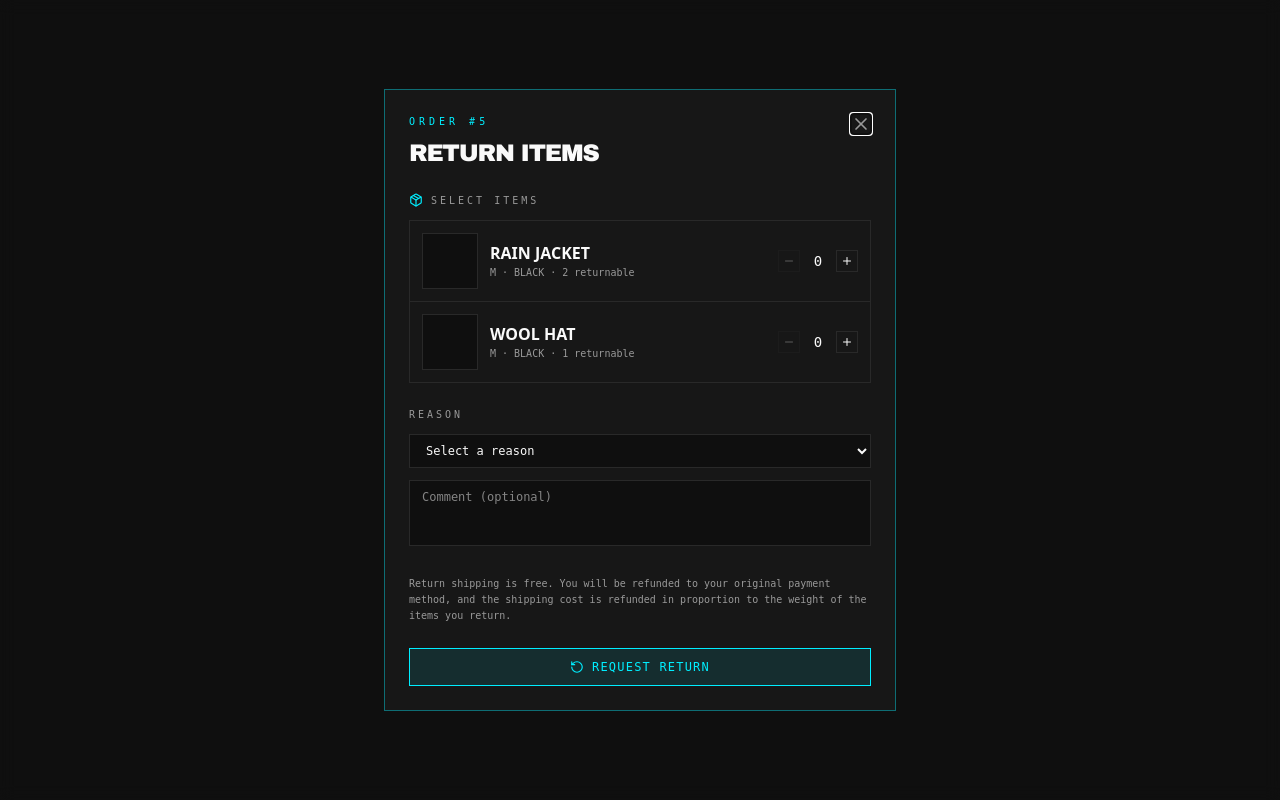
Scenario: ReturnDialog › asks for at least one item and a reason, and sends nothing
Click the button "Request return".
click(640, 667)  # box [409, 648, 871, 686]
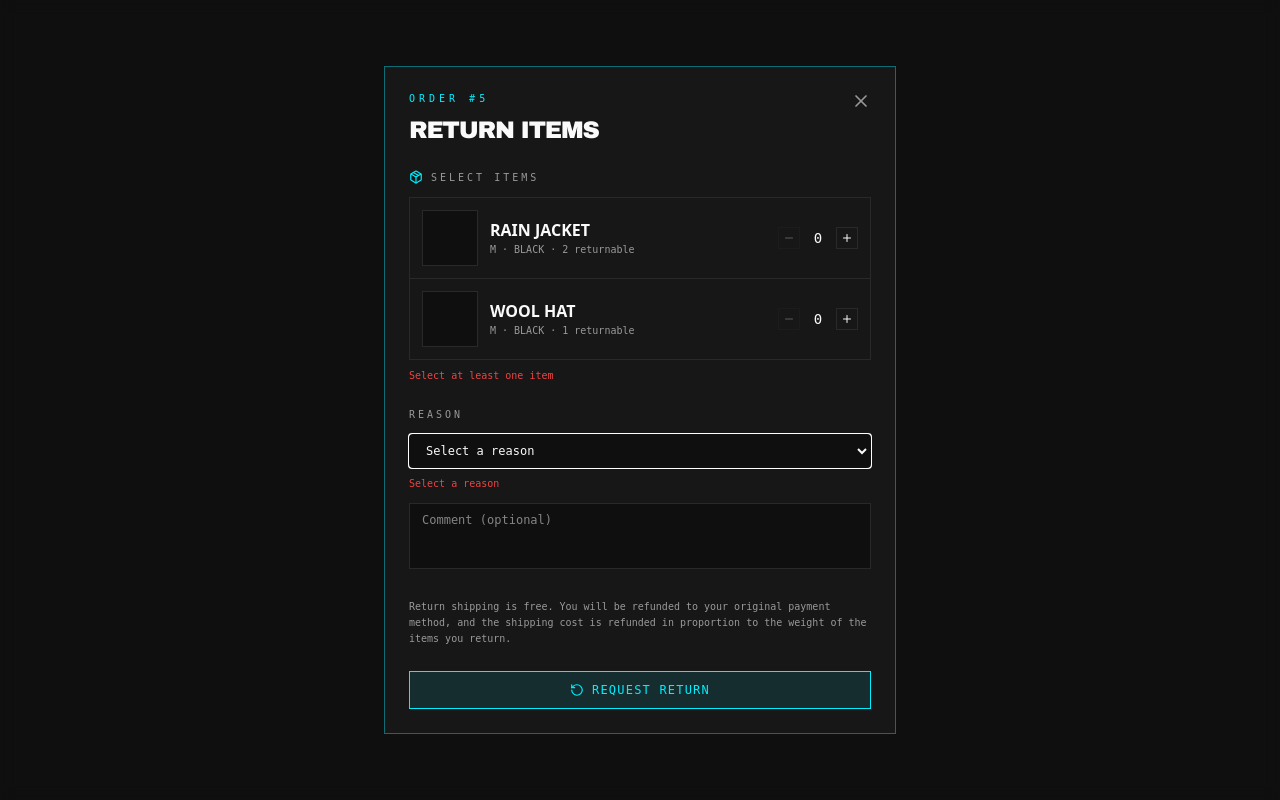
Result: the text "Select at least one item" is shown at [409, 370, 554, 381]
Result: the text "Select a reason" is shown at [409, 478, 499, 489]
